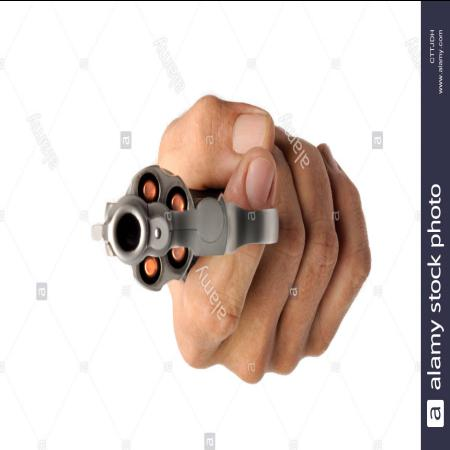Pistol: (85, 163, 292, 300)
